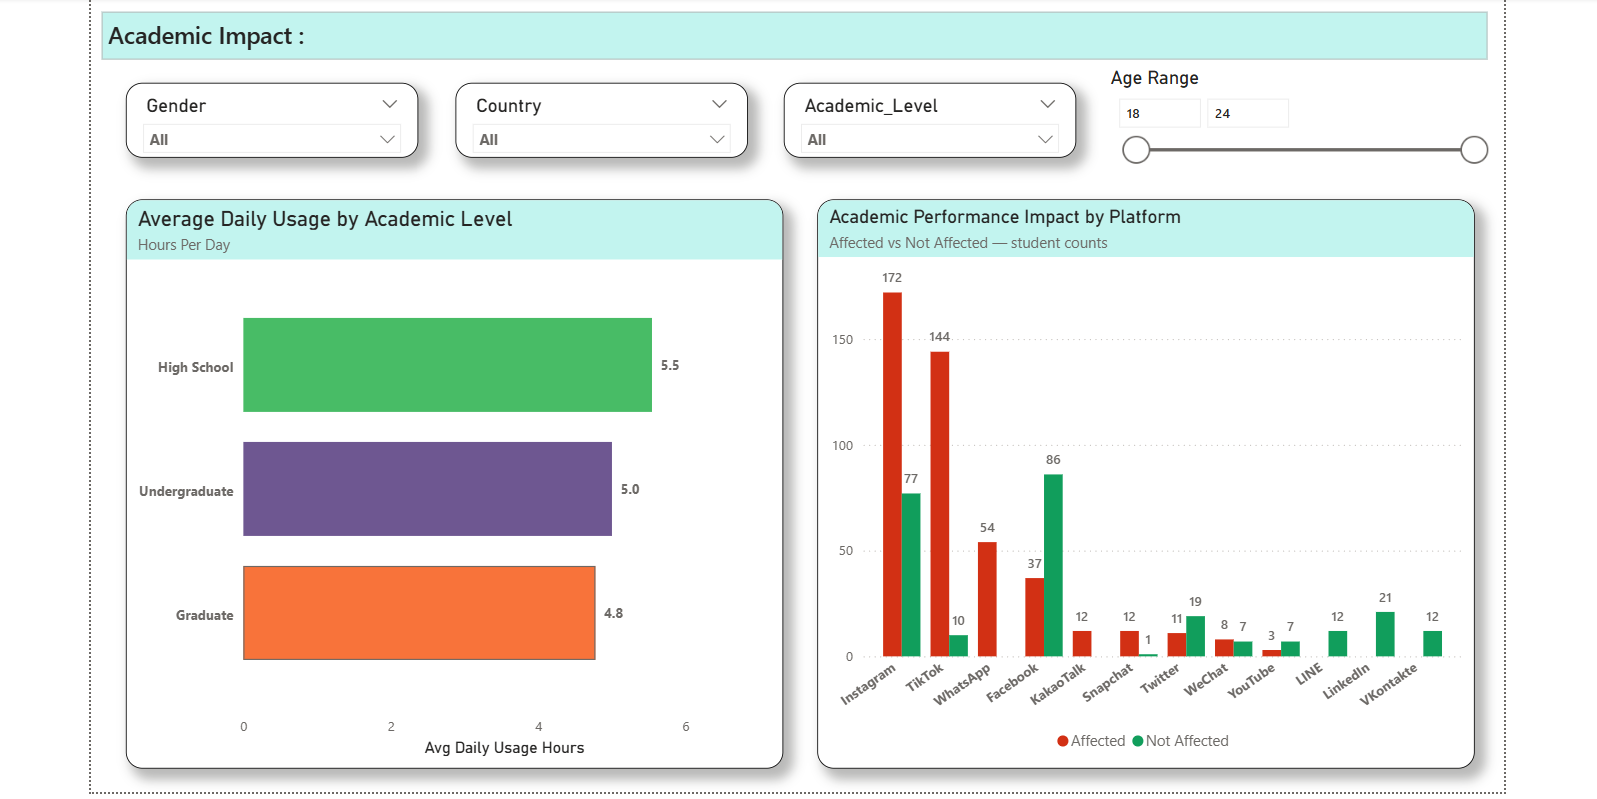

Layout of this report page (visuals, bound fields, positions):
{"tool":"powerbi","page":{"name":"Academic Impact","canvas":[1280,720],"ordinal":2},"visuals":[{"type":"textbox","box":[9.4,13.5,1254.9,43.1],"z":0},{"type":"barChart","title":"Average Daily Usage by Academic Level","fields":{"Category":["Student Details.Academic_Level"],"Y":["Avg(Platform Details.Avg_Daily_Usage_Hours)"]},"box":[31.8,182.9,595.2,515.6],"z":1000},{"type":"clusteredColumnChart","title":"Academic Performance Impact by Platform","fields":{"Category":["Platform Details.Most_Used_Platform"],"Y":["Date Table.Academic Performance Affected","Date Table.Academic Performance not affected"]},"box":[657.5,182.9,595.2,515.6],"z":2000},{"type":"slicer","fields":{"Values":["Student Details.Gender"]},"box":[31.8,78.2,265.1,67.6],"z":3000},{"type":"slicer","fields":{"Values":["Student Details.Country"]},"box":[330.1,78.2,265.1,67.6],"z":4000},{"type":"slicer","fields":{"Values":["Student Details.Academic_Level"]},"box":[627,78.2,265.1,67.6],"z":5000},{"type":"slicer","title":"Age Range","fields":{"Values":["Student Details.Age"]},"box":[913.3,57,367.2,104.7],"z":6000}]}

Visuals, with their boxes on the page's 1280x720 design canvas (x1, y1, x2, y2). These are canvas units, not pixel positions in the 1597x799 screenshot, which may show the page scaled, cropped or inside an application window:
textbox: <bbox>9, 14, 1264, 57</bbox>
"Average Daily Usage by Academic Level" barChart: <bbox>32, 183, 627, 698</bbox>
"Academic Performance Impact by Platform" clusteredColumnChart: <bbox>658, 183, 1253, 698</bbox>
slicer - Student Details.Gender: <bbox>32, 78, 297, 146</bbox>
slicer - Student Details.Country: <bbox>330, 78, 595, 146</bbox>
slicer - Student Details.Academic_Level: <bbox>627, 78, 892, 146</bbox>
"Age Range" slicer: <bbox>913, 57, 1280, 162</bbox>
